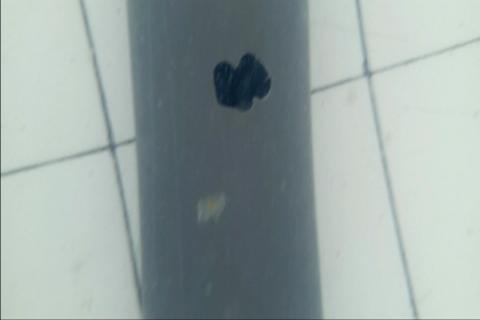kebocoran: (211, 50, 272, 114)
